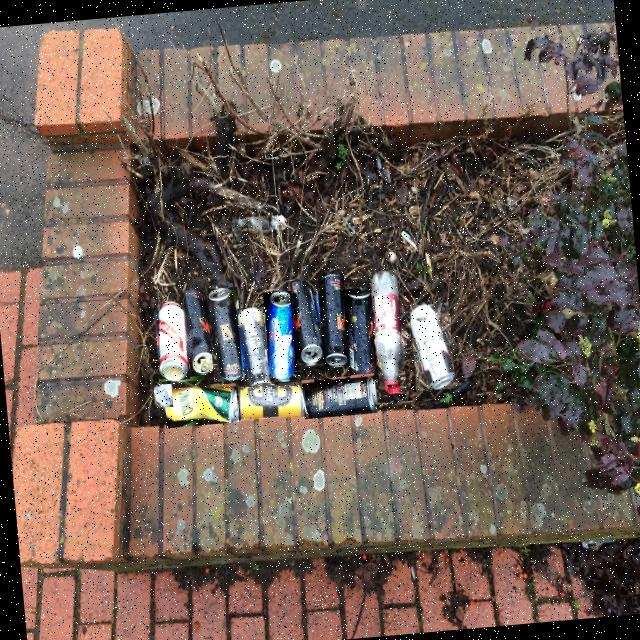Clear plastic bottle: (372, 270, 402, 394)
Drink can: (411, 304, 454, 389), (208, 288, 244, 380), (180, 287, 216, 374), (304, 376, 376, 418), (238, 308, 273, 387), (319, 274, 349, 366), (347, 288, 377, 380), (164, 386, 237, 422), (292, 282, 323, 363), (158, 301, 188, 380), (270, 292, 296, 380), (240, 386, 304, 419)
Plastic bottle cap: (388, 384, 401, 392)
Pop tab: (201, 359, 211, 371), (226, 372, 233, 377), (277, 371, 284, 376), (306, 352, 310, 359), (334, 358, 341, 362)
Unlabeled litter: (154, 385, 172, 406), (244, 216, 268, 230), (232, 220, 246, 244), (402, 232, 417, 252), (271, 214, 285, 224), (412, 566, 416, 580)
